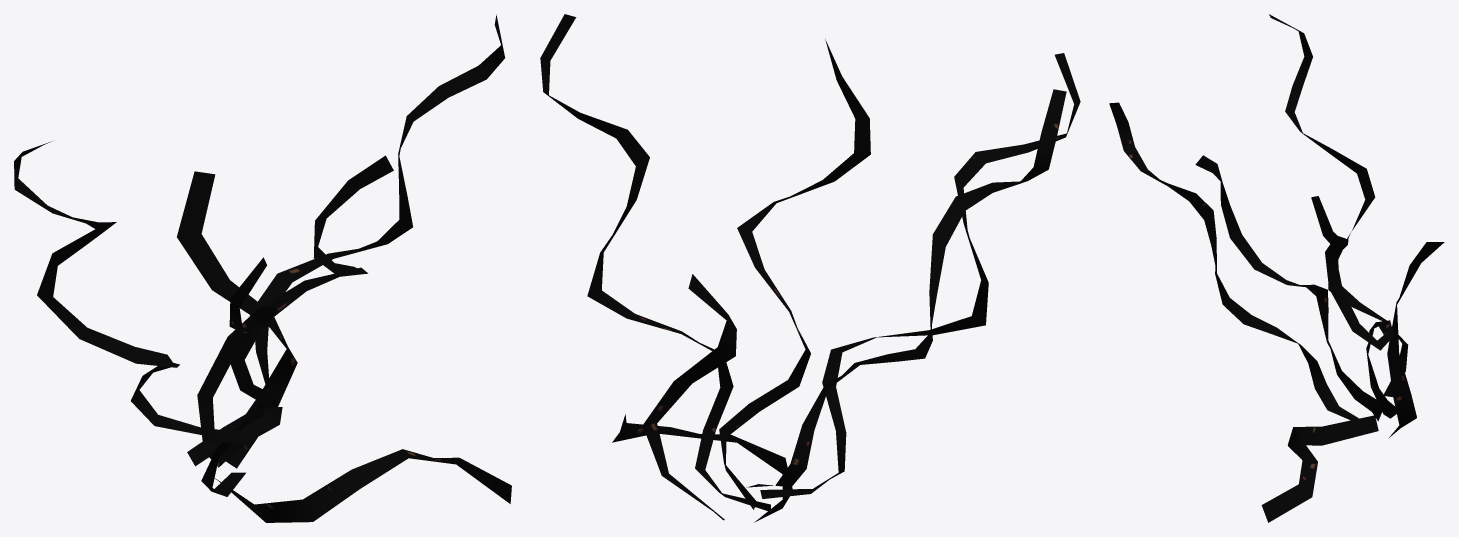
File: Torch_Sparks.fbx
The picture shows the model from 3 angles, left to right: view 1: azimuth 30°, elevation 25°; view 2: azimuth 150°, elevation 25°; view 3: azimuth 270°, elevation 25°; orthographic projection. The views are drawn at different scales.
Visible parts, largest first — view 1: Sparks_06, Sparks_08, Sparks_010, Sparks_02, Sparks_012, Sparks_04, Sparks_09, Sparks_07, Sparks_011; view 2: Sparks_010, Sparks_08, Sparks_06, Sparks_04, Sparks_02, Sparks_011, Sparks_012, Sparks_09, Sparks_07, Sparks_05, Sparks_03; view 3: Sparks_06, Sparks_012, Sparks_08, Sparks_04, Sparks_010, Sparks_02, Sparks_07, Sparks_09, Sparks_011.
Part boxes in pixels (bbox=[...]): Sparks_06: bbox=[197, 257, 282, 496]; Sparks_08: bbox=[187, 14, 504, 465]; Sparks_010: bbox=[14, 141, 201, 434]; Sparks_02: bbox=[177, 171, 297, 468]; Sparks_012: bbox=[215, 449, 511, 522]; Sparks_04: bbox=[208, 155, 393, 467]; Sparks_09: bbox=[188, 16, 504, 464]; Sparks_07: bbox=[199, 259, 281, 496]; Sparks_011: bbox=[14, 143, 201, 433]; Sparks_010: bbox=[746, 89, 1066, 487]; Sparks_08: bbox=[540, 14, 771, 511]; Sparks_06: bbox=[760, 53, 1080, 498]; Sparks_04: bbox=[719, 39, 870, 509]; Sparks_02: bbox=[643, 274, 736, 520]; Sparks_011: bbox=[751, 90, 1063, 486]; Sparks_012: bbox=[612, 414, 792, 522]; Sparks_09: bbox=[541, 15, 770, 511]; Sparks_07: bbox=[761, 54, 1078, 498]; Sparks_05: bbox=[719, 45, 870, 464]; Sparks_03: bbox=[642, 321, 735, 516]; Sparks_06: bbox=[1109, 102, 1361, 421]; Sparks_012: bbox=[1261, 415, 1378, 522]; Sparks_08: bbox=[1311, 196, 1396, 418]; Sparks_04: bbox=[1196, 155, 1381, 421]; Sparks_010: bbox=[1269, 14, 1408, 396]; Sparks_02: bbox=[1387, 242, 1444, 438]; Sparks_07: bbox=[1111, 103, 1357, 420]; Sparks_09: bbox=[1311, 196, 1395, 417]; Sparks_011: bbox=[1270, 15, 1407, 395].
Bounding box in the file's own units: 0.8843 × 0.7826 × 0.6917.
